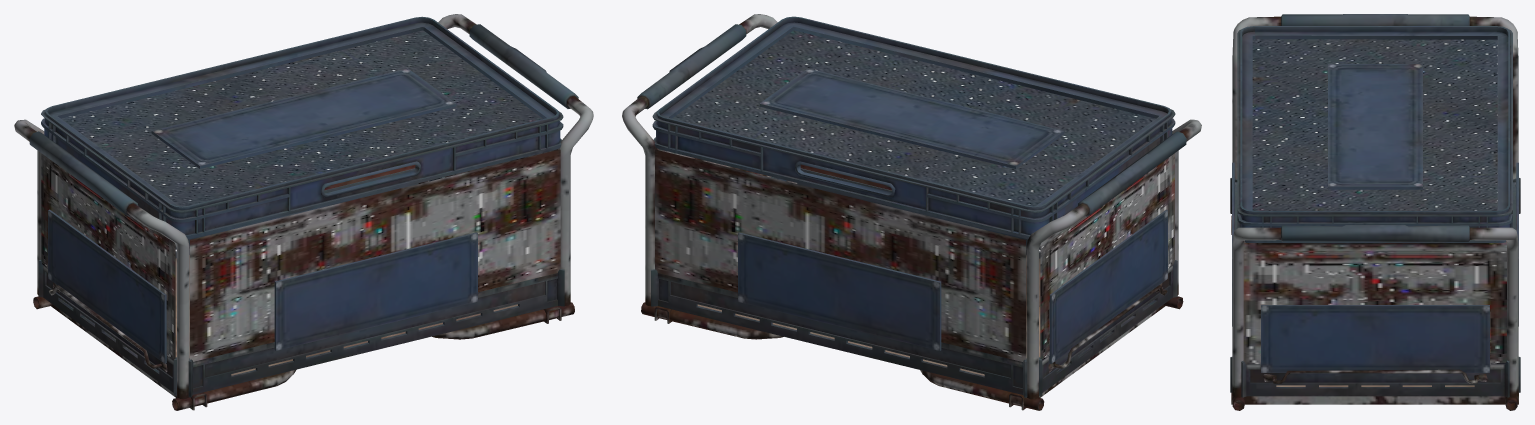
File: component_box_food.glb
3 renders of one model, left to right at view 1: azimuth 30°, elevation 25°; view 2: azimuth 150°, elevation 25°; view 3: azimuth 270°, elevation 25°, orthographic.
Parts seen in each view (by area): view 1: component_box_food; view 2: component_box_food; view 3: component_box_food.
Boxes of the visible parts, x1,y1,x2,y2 form: component_box_food: (14,14,593,410); component_box_food: (622,14,1201,410); component_box_food: (1230,14,1520,410).
Bounding box in the file's own units: 1.86 × 0.7828 × 1.05.
Materials: 1 (1 with a texture image).
